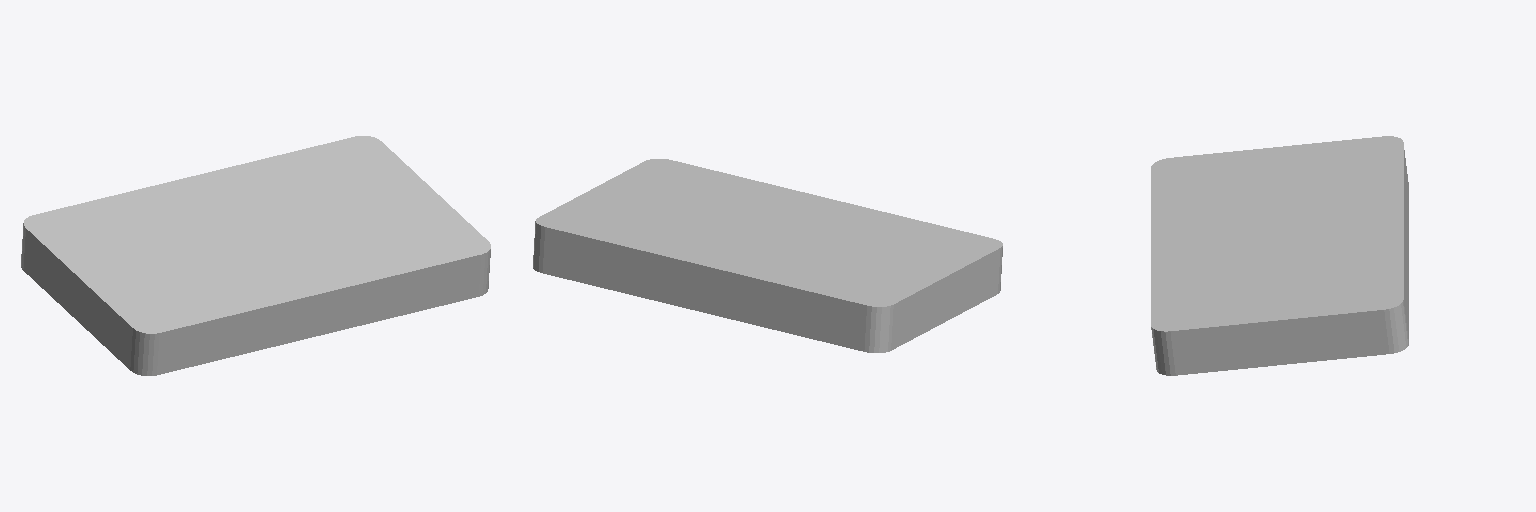
The model's file is original-61.obj.
3 views of the same model, side by side, from view 1: azimuth 30°, elevation 25°; view 2: azimuth 150°, elevation 25°; view 3: azimuth 270°, elevation 25° (orthographic).
Parts seen in each view (by area): view 1: mesh60/mesh60-geometry#mesh60-geometry; view 2: mesh60/mesh60-geometry#mesh60-geometry; view 3: mesh60/mesh60-geometry#mesh60-geometry.
Boxes of the visible parts, x1=… form: mesh60/mesh60-geometry#mesh60-geometry: x1=21, y1=136, x2=490, y2=375; mesh60/mesh60-geometry#mesh60-geometry: x1=533, y1=159, x2=1002, y2=352; mesh60/mesh60-geometry#mesh60-geometry: x1=1151, y1=136, x2=1408, y2=375.
Size of the model in its own units: 0.1061 by 0.0199 by 0.0667.